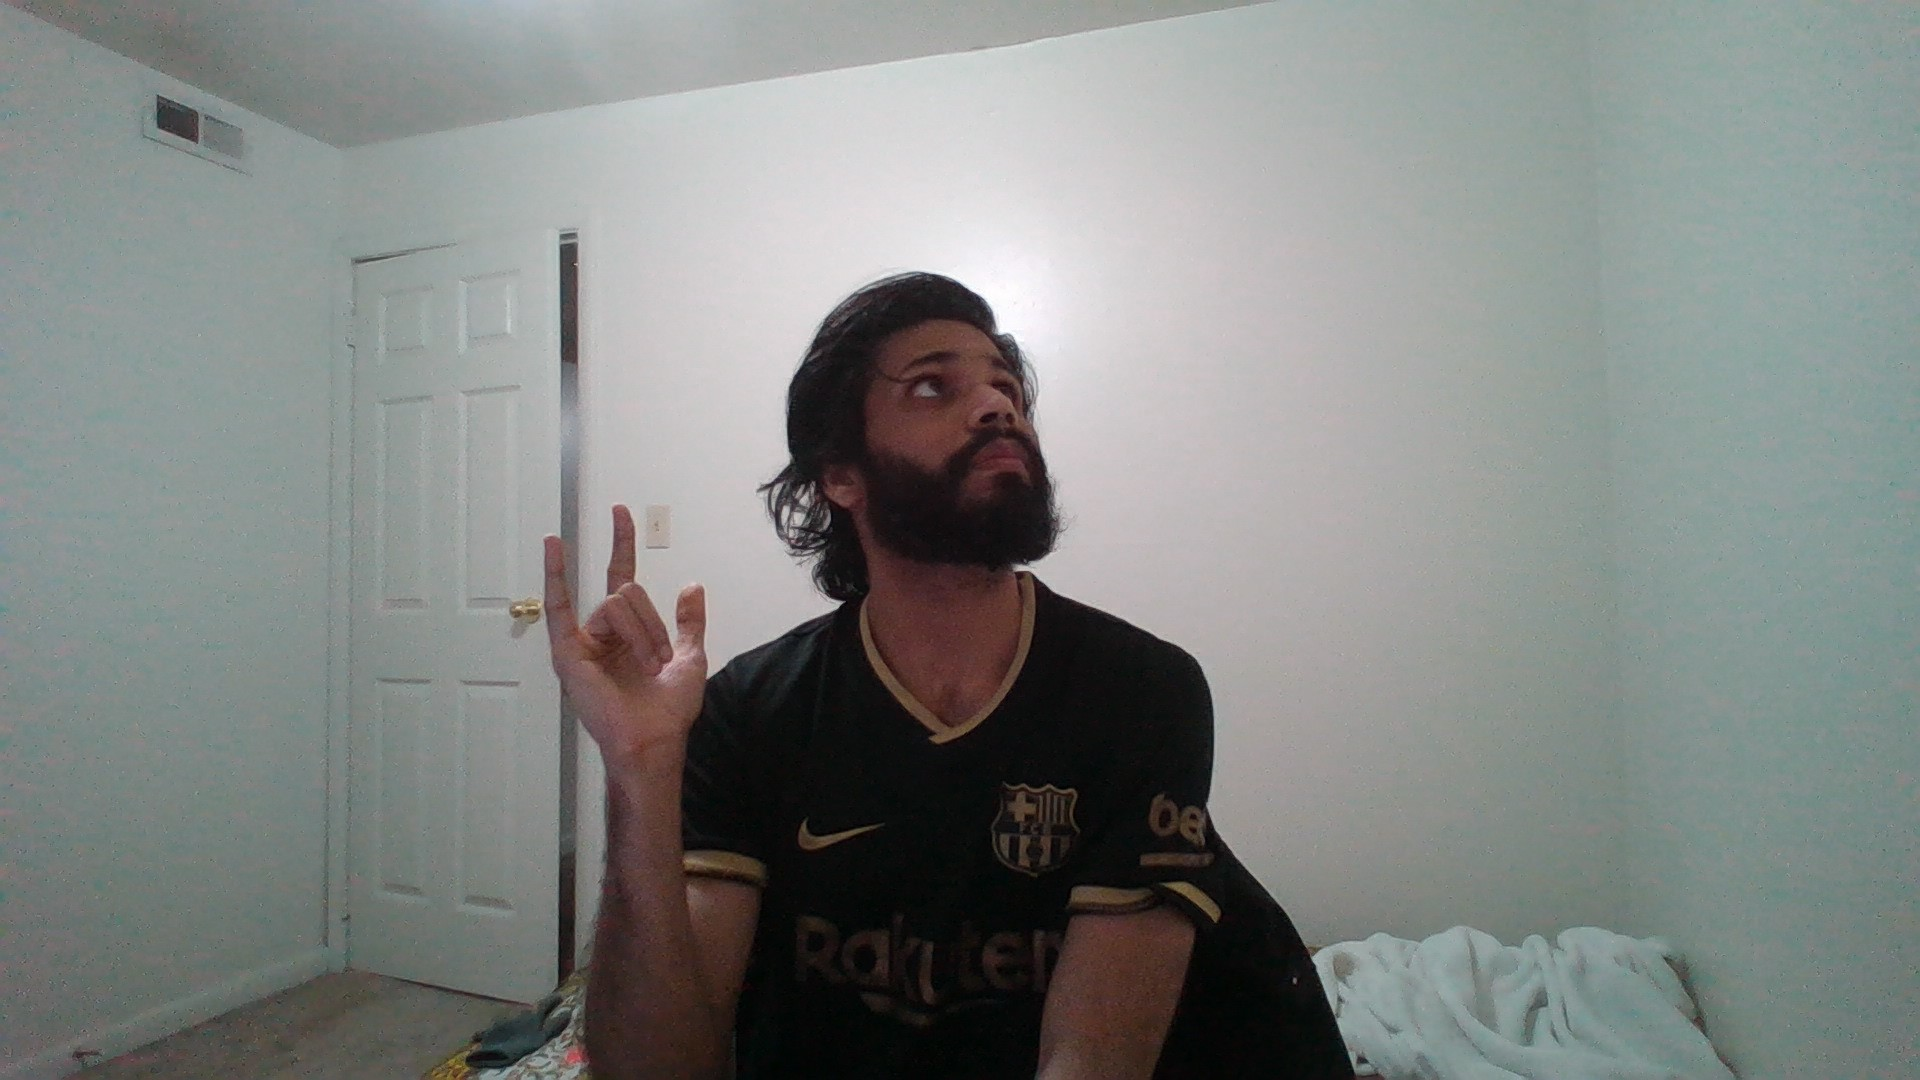IloveYou: (491, 481, 775, 789)
